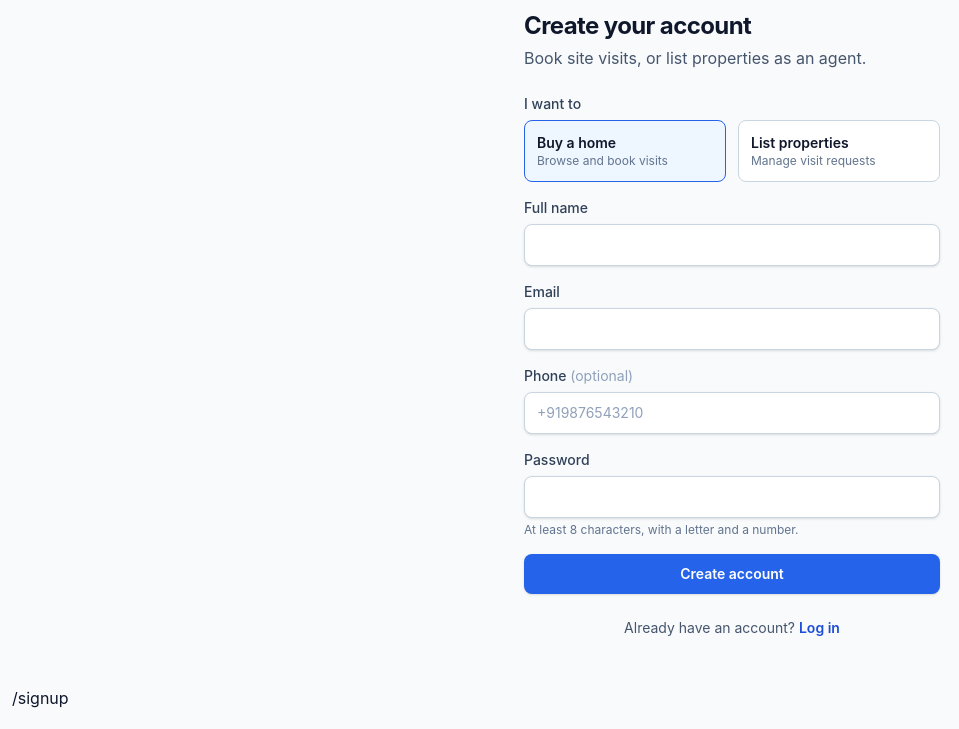
it: <SignupPage> › rejects {"Password":"short1"} with Use at least 8 characters
The width and height of the screenshot is (959, 729).
Type "Riya S" into the field labelled "Full name" at (732, 245), box left=524, top=224, right=940, bottom=266
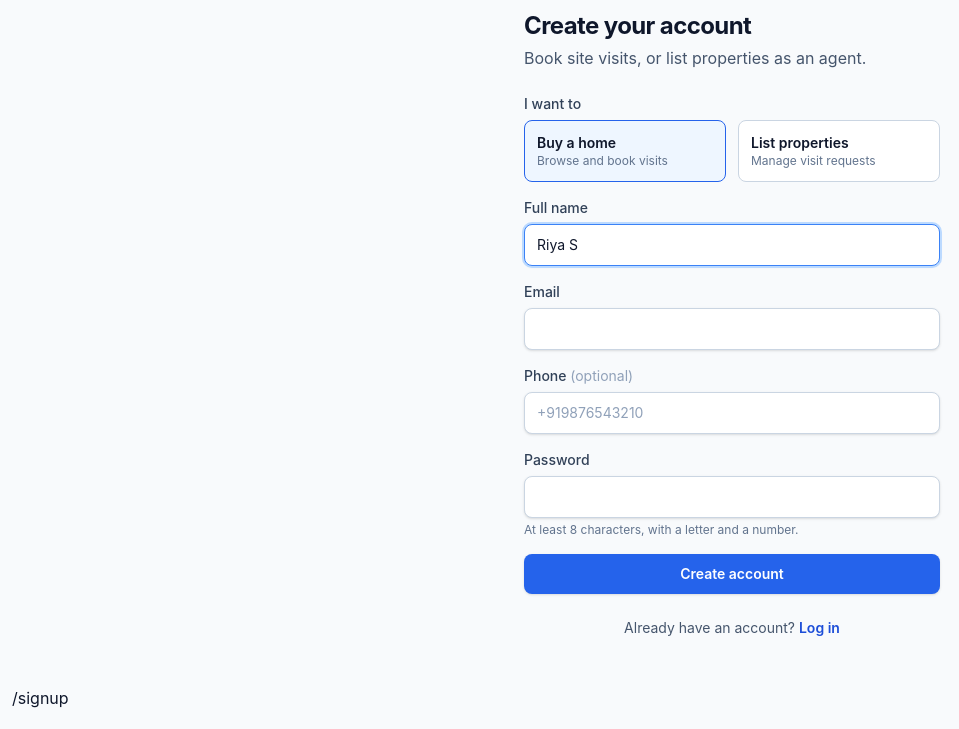
Type "riya@example.com" into the field labelled "Email" at (732, 329), box left=524, top=308, right=940, bottom=350
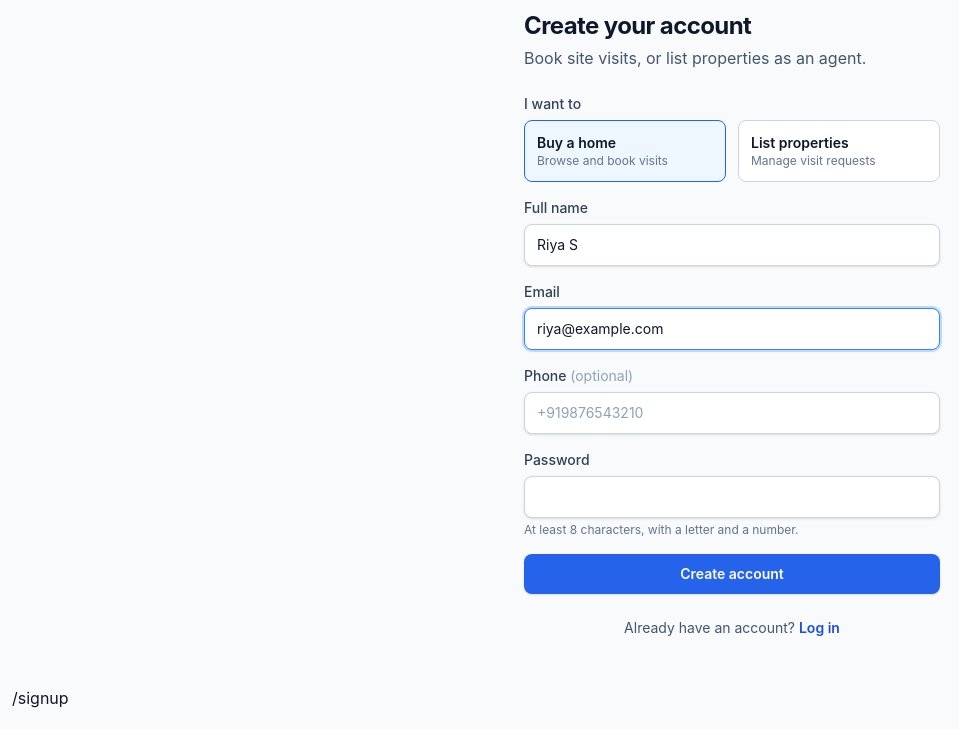
Type "short1" into the password field labelled "Password" at (732, 497), box left=524, top=476, right=940, bottom=518
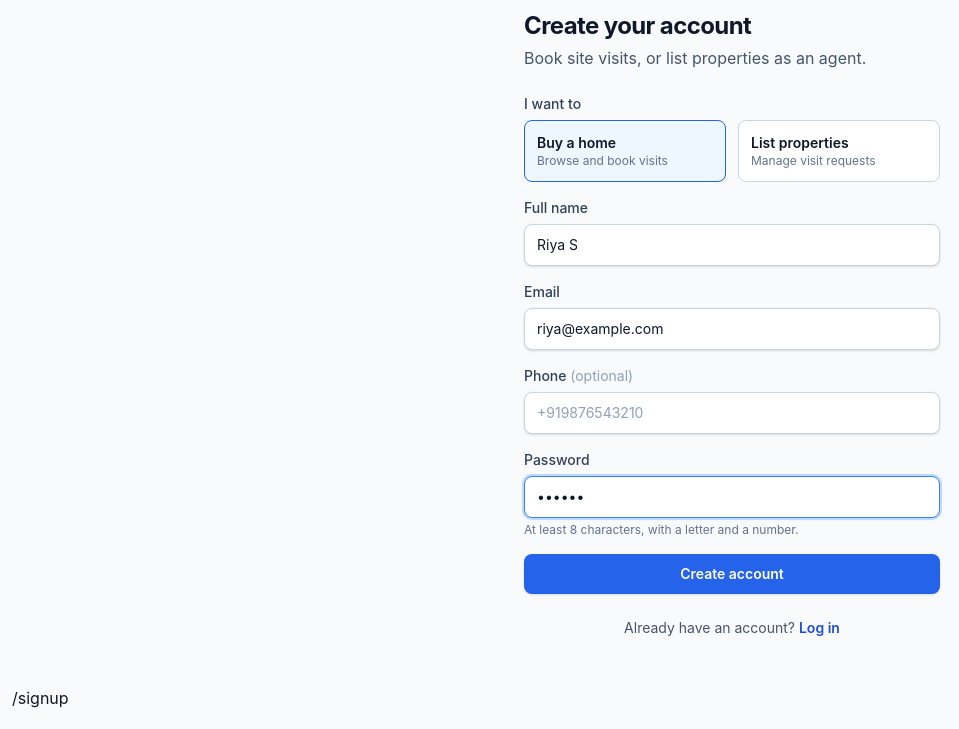
Click the button "Create account" at (732, 574), box left=524, top=554, right=940, bottom=594
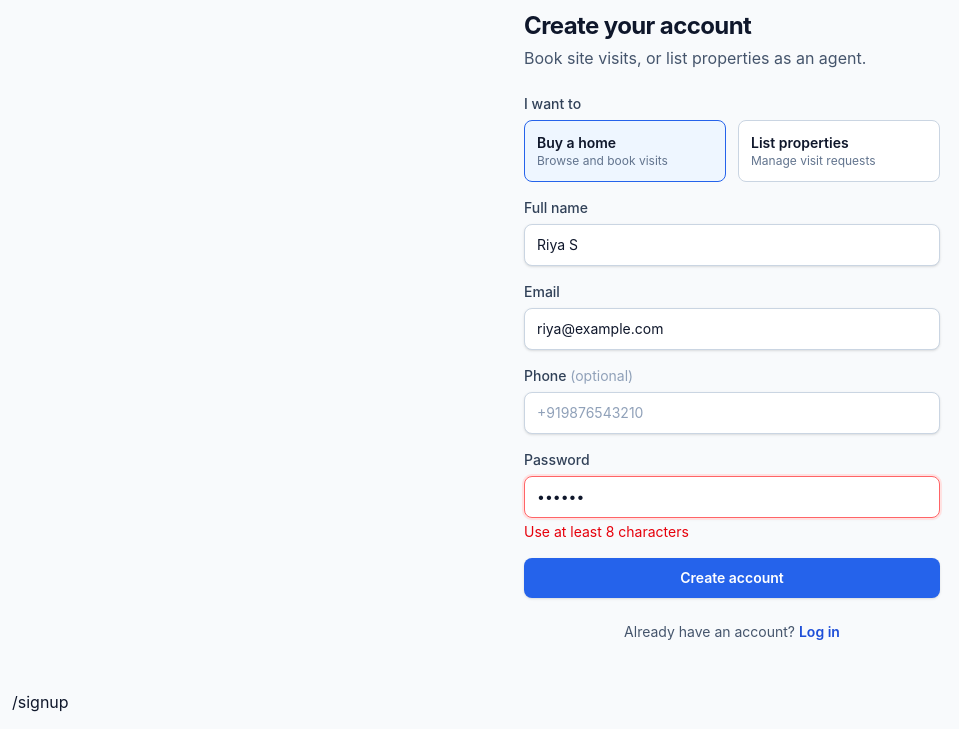
Now the text "Use at least 8 characters" is shown, box left=524, top=523, right=689, bottom=540
